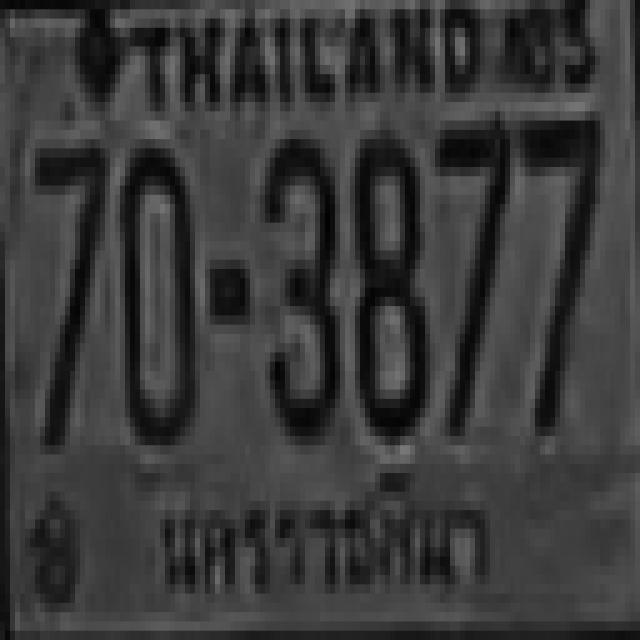0: (118, 139, 192, 436)
3: (260, 130, 335, 436)
7: (520, 111, 600, 427), (432, 111, 508, 427), (30, 139, 105, 445)
8: (350, 126, 425, 432)
NakhonRatchasima: (148, 460, 506, 617)
